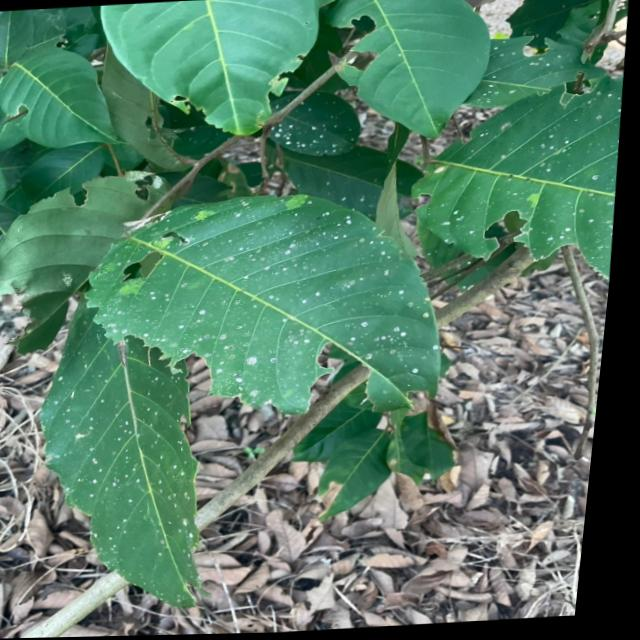Algal Leaf Spot: (102, 182, 455, 416), (44, 313, 254, 612), (450, 38, 635, 265)
